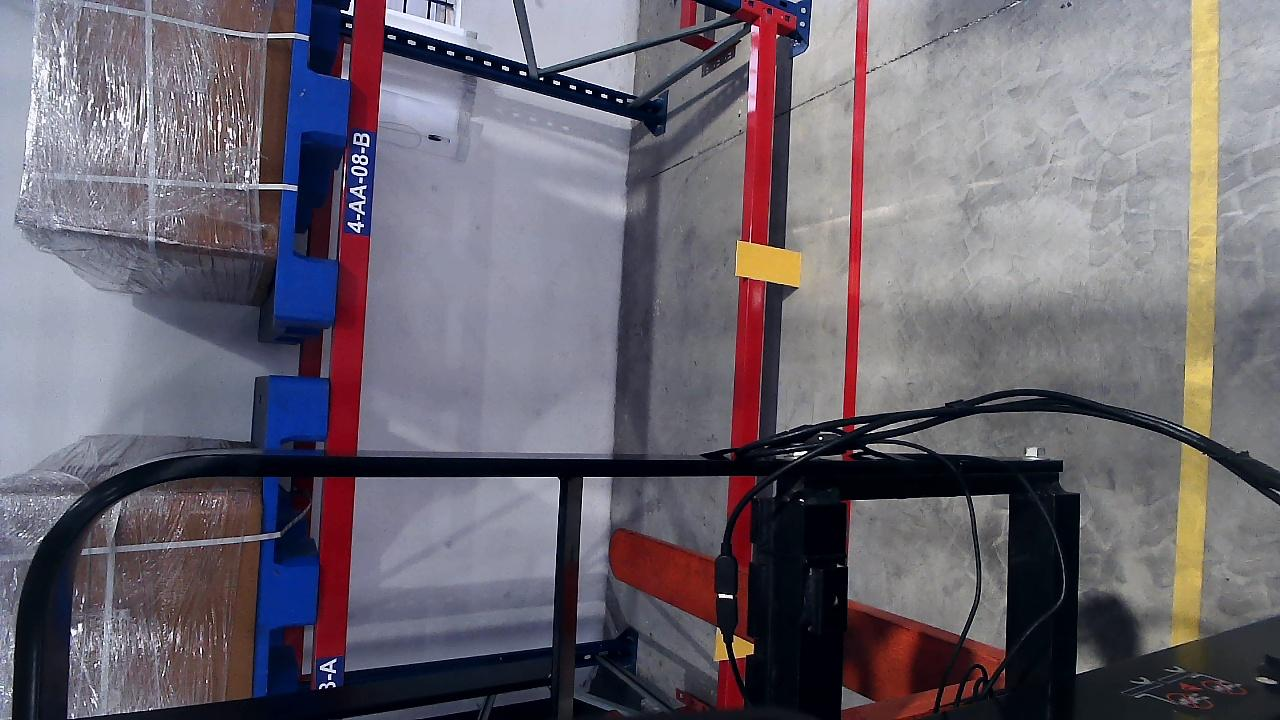h_rack: (325, 0, 391, 452), (734, 11, 780, 444)
orange_strip: (735, 241, 801, 287)
red_line: (842, 5, 868, 417), (315, 478, 357, 689)
small_pallet: (270, 0, 365, 319), (249, 374, 327, 690)
yellow_line: (1180, 0, 1221, 436), (1170, 444, 1211, 648)
